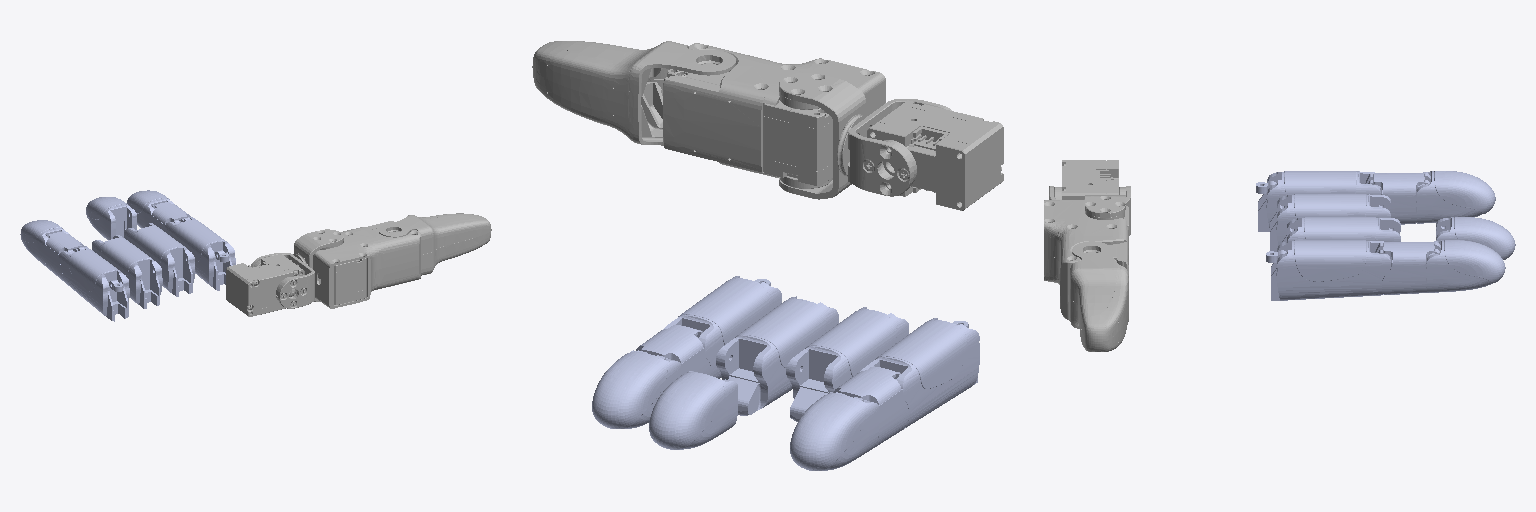
robot.urdf — Dex5-URDF-R:
<robot name="Dex5-URDF-R">
  <mujoco>
    <compiler meshdir="meshes" discardvisual="false"/>
  </mujoco>
  <link name="base_link_R">
    <inertial>
      <origin xyz="-0.023027 0.027982 -0.017178" rpy="0 0 0"/>
      <mass value="0.685702"/>
      <inertia ixx="7.78969326E-04" ixy="-3.3932999E-05" ixz="-8.537493E-06" iyy="6.11017846E-04" iyz="5.5013726E-05" izz="1.061484896E-03"/>
    </inertial>
    <visual>
      <origin xyz="0 0 0" rpy="0 0 0"/>
      <geometry>
        <mesh filename="meshes/base_link_R.STL"/>
      </geometry>
      <material name="">
        <color rgba="0.752941176470588 0.752941176470588 0.752941176470588 1"/>
      </material>
    </visual>
    <collision>
      <origin xyz="0 0 0" rpy="0 0 0"/>
      <geometry>
        <mesh filename="meshes/base_link_R.STL"/>
      </geometry>
    </collision>
  </link>
  <link name="Link_11R">
    <inertial>
      <origin xyz="-0.008418 0.000123 -0.003247" rpy="0 0 0"/>
      <mass value="0.02363"/>
      <inertia ixx="2.641049E-06" ixy="1.9442E-08" ixz="1.8132E-07" iyy="3.607134E-06" iyz="5.837E-09" izz="3.860781E-06"/>
    </inertial>
    <visual>
      <origin xyz="0 0 0" rpy="0 0 0"/>
      <geometry>
        <mesh filename="meshes/Link_11R.STL"/>
      </geometry>
      <material name="">
        <color rgba="0.752941176470588 0.752941176470588 0.752941176470588 1"/>
      </material>
    </visual>
    <collision>
      <origin xyz="0 0 0" rpy="0 0 0"/>
      <geometry>
        <mesh filename="meshes/Link_11R.STL"/>
      </geometry>
    </collision>
  </link>
  <joint name="Yaw_11R" type="revolute">
    <origin xyz="0 0 0.0143500000000242" rpy="0 0 0"/>
    <parent link="base_link_R"/>
    <child link="Link_11R"/>
    <axis xyz="0 0 1"/>
    <limit lower="-0.57596" upper="0.76794" effort="0.93" velocity="4.18"/>
  </joint>
  <link name="Link_12R">
    <inertial>
      <origin xyz="0.014668 0.000013 -0.004099" rpy="0 0 0"/>
      <mass value="0.015809"/>
      <inertia ixx="3.066476E-06" ixy="-4.497E-9" ixz="2.22721E-7" iyy="4.049699E-06" iyz="1.404E-9" izz="3.627081E-06"/>
    </inertial>
    <visual>
      <origin xyz="0 0 0" rpy="0 0 0"/>
      <geometry>
        <mesh filename="meshes/Link_12R.STL"/>
      </geometry>
      <material name="">
        <color rgba="0.752941176470588 0.752941176470588 0.752941176470588 1"/>
      </material>
    </visual>
    <collision>
      <origin xyz="0 0 0" rpy="0 0 0"/>
      <geometry>
        <mesh filename="meshes/Link_12R.STL"/>
      </geometry>
    </collision>
  </link>
  <joint name="Roll_12R" type="revolute">
    <origin xyz="-1.06041019916053E-05 0 0" rpy="1.5707963267949 0 0"/>
    <parent link="Link_11R"/>
    <child link="Link_12R"/>
    <axis xyz="0 0 1"/>
    <limit lower="0" upper="1.8151" effort="0.93" velocity="4.18"/>
  </joint>
  <link name="Link_13R">
    <inertial>
      <origin xyz="0.018557 -0.006933 0.000159" rpy="0 0 0"/>
      <mass value="0.06674"/>
      <inertia ixx="9.105565E-06" ixy="-1.948696E-06" ixz="2.9291E-08" iyy="2.2925394E-05" iyz="-0.816E-09" izz="2.3878954E-05"/>
    </inertial>
    <visual>
      <origin xyz="0 0 0" rpy="0 0 0"/>
      <geometry>
        <mesh filename="meshes/Link_13R.STL"/>
      </geometry>
      <material name="">
        <color rgba="0.752941176470588 0.752941176470588 0.752941176470588 1"/>
      </material>
    </visual>
    <collision>
      <origin xyz="0 0 0" rpy="0 0 0"/>
      <geometry>
        <mesh filename="meshes/Link_13R.STL"/>
      </geometry>
    </collision>
  </link>
  <joint name="Pitch_13R" type="revolute">
    <origin xyz="0.0335000000000025 0 -0.00599999999999658" rpy="-1.57079632688918 -1.55083872381532E-05 0"/>
    <parent link="Link_12R"/>
    <child link="Link_13R"/>
    <axis xyz="0 0 1"/>
    <limit lower="0" upper="1.9548" effort="0.93" velocity="4.18"/>
  </joint>
  <link name="Link_14R">
    <inertial>
      <origin xyz="0.028085 0.003322 0.000472" rpy="0 0 0"/>
      <mass value="0.020073"/>
      <inertia ixx="1.93782E-06" ixy="-1.69818E-07" ixz="1.24848E-07" iyy="6.083181E-06" iyz="2.0791E-08" izz="5.614839E-06"/>
    </inertial>
    <visual>
      <origin xyz="0 0 0" rpy="0 0 0"/>
      <geometry>
        <mesh filename="meshes/Link_14R.STL"/>
      </geometry>
      <material name="">
        <color rgba="0.752941176470588 0.752941176470588 0.752941176470588 1"/>
      </material>
    </visual>
    <collision>
      <origin xyz="0 0 0" rpy="0 0 0"/>
      <geometry>
        <mesh filename="meshes/Link_14R.STL"/>
      </geometry>
    </collision>
  </link>
  <joint name="Pitch_14R" type="revolute">
    <origin xyz="0.036609 -0.0053654 0" rpy="0 0 0"/>
    <parent link="Link_13R"/>
    <child link="Link_14R"/>
    <axis xyz="0 0 1"/>
    <limit lower="0" upper="1.6406" effort="0.93" velocity="4.18"/>
  </joint>
  <link name="Link_21R">
    <inertial>
      <origin xyz="0.007826 -0.000005 -0.004125" rpy="0 0 0"/>
      <mass value="0.004497"/>
      <inertia ixx="8.9889E-08" ixy="-4.9E-11" ixz="3.7079E-08" iyy="1.37514E-07" iyz="-1.18E-10" izz="9.6125E-08"/>
    </inertial>
    <visual>
      <origin xyz="0 0 0" rpy="0 0 0"/>
      <geometry>
        <mesh filename="meshes/Link_21R.STL"/>
      </geometry>
      <material name="">
        <color rgba="0.792156862745098 0.819607843137255 0.933333333333333 1"/>
      </material>
    </visual>
    <collision>
      <origin xyz="0 0 0" rpy="0 0 0"/>
      <geometry>
        <mesh filename="meshes/Link_21R.STL"/>
      </geometry>
    </collision>
  </link>
  <joint name="Roll_21R" type="revolute">
    <origin xyz="0.01 0.073143 -0.0034702" rpy="0 0 1.5708"/>
    <parent link="base_link_R"/>
    <child link="Link_21R"/>
    <axis xyz="0 0 1"/>
    <limit lower="-0.38397" upper="0.38397" effort="0" velocity="0.76794"/>
  </joint>
  <link name="Link_22R">
    <inertial>
      <origin xyz="0.021242 -0.005936 0.000059" rpy="0 0 0"/>
      <mass value="0.017982"/>
      <inertia ixx="1.206794E-06" ixy="-1.30843E-07" ixz="-2.335E-09" iyy="4.081109E-06" iyz="1.219E-09" izz="4.370124E-06"/>
    </inertial>
    <visual>
      <origin xyz="0 0 0" rpy="0 0 0"/>
      <geometry>
        <mesh filename="meshes/Link_22R.STL"/>
      </geometry>
      <material name="">
        <color rgba="0.792156862745098 0.819607843137255 0.933333333333333 1"/>
      </material>
    </visual>
    <collision>
      <origin xyz="0 0 0" rpy="0 0 0"/>
      <geometry>
        <mesh filename="meshes/Link_22R.STL"/>
      </geometry>
    </collision>
  </link>
  <joint name="Pitch_22R" type="revolute">
    <origin xyz="0.00419999999999998 0 0" rpy="1.5707963267949 0 0"/>
    <parent link="Link_21R"/>
    <child link="Link_22R"/>
    <axis xyz="0 0 1"/>
    <limit lower="0" upper="1.5707963" effort="0" velocity="3.1415926"/>
  </joint>
  <link name="Link_23R">
    <inertial>
      <origin xyz="0.011393 -0.005777 0.000001" rpy="0 0 0"/>
      <mass value="0.012776"/>
      <inertia ixx="6.38115E-07" ixy="5.5121E-08" ixz="-4.97E-10" iyy="6.31505E-07" iyz="-1.43E-10" izz="8.2943E-07"/>
    </inertial>
    <visual>
      <origin xyz="0 0 0" rpy="0 0 0"/>
      <geometry>
        <mesh filename="meshes/Link_23R.STL"/>
      </geometry>
      <material name="">
        <color rgba="0.792156862745098 0.819607843137255 0.933333333333333 1"/>
      </material>
    </visual>
    <collision>
      <origin xyz="0 0 0" rpy="0 0 0"/>
      <geometry>
        <mesh filename="meshes/Link_23R.STL"/>
      </geometry>
    </collision>
  </link>
  <joint name="Pitch_23R" type="revolute">
    <origin xyz="0.039999999999998 0 0" rpy="0 0 0"/>
    <parent link="Link_22R"/>
    <child link="Link_23R"/>
    <axis xyz="0 0 1"/>
    <limit lower="0" upper="1.684242699" effort="0" velocity="3.368485398"/>
  </joint>
  <link name="Link_24R">
    <inertial>
      <origin xyz="0.009354 -0.004824 0.000072" rpy="0 0 0"/>
      <mass value="0.00639891165893413"/>
      <inertia ixx="4.9531E-07" ixy="-1.09285E-07" ixz="8.84E-10" iyy="1.466772E-06" iyz="4.47E-10" izz="1.448234E-06"/>
    </inertial>
    <visual>
      <origin xyz="0 0 0" rpy="0 0 0"/>
      <geometry>
        <mesh filename="meshes/Link_24R.STL"/>
      </geometry>
      <material name="">
        <color rgba="0.792156862745098 0.819607843137255 0.933333333333333 1"/>
      </material>
    </visual>
    <collision>
      <origin xyz="0 0 0" rpy="0 0 0"/>
      <geometry>
        <mesh filename="meshes/Link_24R.STL"/>
      </geometry>
    </collision>
  </link>
  <joint name="Pitch_24R" type="revolute">
    <origin xyz="0.0209845918681 0.000804303505750905 0" rpy="0 0 0"/>
    <parent link="Link_23R"/>
    <child link="Link_24R"/>
    <axis xyz="0 0 1"/>
    <limit lower="0" upper="1.396263378" effort="0" velocity="2.792526756"/>
  </joint>
  <link name="Link_31R">
    <inertial>
      <origin xyz="0.007826 -0.000005 -0.004125" rpy="0 0 0"/>
      <mass value="0.004497"/>
      <inertia ixx="8.9889E-08" ixy="-4.9E-11" ixz="3.7079E-08" iyy="1.37514E-07" iyz="-1.18E-10" izz="9.6125E-08"/>
    </inertial>
    <visual>
      <origin xyz="0 0 0" rpy="0 0 0"/>
      <geometry>
        <mesh filename="meshes/Link_31R.STL"/>
      </geometry>
      <material name="">
        <color rgba="0.792156862745098 0.819607843137255 0.933333333333333 1"/>
      </material>
    </visual>
    <collision>
      <origin xyz="0 0 0" rpy="0 0 0"/>
      <geometry>
        <mesh filename="meshes/Link_31R.STL"/>
      </geometry>
    </collision>
  </link>
  <joint name="Roll_31R" type="revolute">
    <origin xyz="-0.012 0.077143 -0.0034702" rpy="0 0 1.5708"/>
    <parent link="base_link_R"/>
    <child link="Link_31R"/>
    <axis xyz="0 0 1"/>
    <limit lower="-0.38397" upper="0.38397" effort="0" velocity="0.76794"/>
  </joint>
  <link name="Link_32R">
    <inertial>
      <origin xyz="0.021242 -0.005936 0.000059" rpy="0 0 0"/>
      <mass value="0.017982"/>
      <inertia ixx="1.206794E-06" ixy="-1.30843E-07" ixz="-2.335E-09" iyy="4.081109E-06" iyz="1.219E-09" izz="4.370124E-06"/>
    </inertial>
    <visual>
      <origin xyz="0 0 0" rpy="0 0 0"/>
      <geometry>
        <mesh filename="meshes/Link_32R.STL"/>
      </geometry>
      <material name="">
        <color rgba="0.792156862745098 0.819607843137255 0.933333333333333 1"/>
      </material>
    </visual>
    <collision>
      <origin xyz="0 0 0" rpy="0 0 0"/>
      <geometry>
        <mesh filename="meshes/Link_32R.STL"/>
      </geometry>
    </collision>
  </link>
  <joint name="Pitch_32R" type="revolute">
    <origin xyz="0.00419999999999998 0 0" rpy="1.5707963267949 0 0"/>
    <parent link="Link_31R"/>
    <child link="Link_32R"/>
    <axis xyz="0 0 1"/>
    <limit lower="0" upper="1.5707963" effort="0" velocity="3.1415926"/>
  </joint>
  <link name="Link_33R">
    <inertial>
      <origin xyz="0.011393 -0.005777 0.000001" rpy="0 0 0"/>
      <mass value="0.012776"/>
      <inertia ixx="6.38115E-07" ixy="5.5121E-08" ixz="-4.97E-10" iyy="6.31505E-07" iyz="-1.43E-10" izz="8.2943E-07"/>
    </inertial>
    <visual>
      <origin xyz="0 0 0" rpy="0 0 0"/>
      <geometry>
        <mesh filename="meshes/Link_33R.STL"/>
      </geometry>
      <material name="">
        <color rgba="0.792156862745098 0.819607843137255 0.933333333333333 1"/>
      </material>
    </visual>
    <collision>
      <origin xyz="0 0 0" rpy="0 0 0"/>
      <geometry>
        <mesh filename="meshes/Link_33R.STL"/>
      </geometry>
    </collision>
  </link>
  <joint name="Pitch_33R" type="revolute">
    <origin xyz="0.039999999999998 0 0" rpy="0 0 0"/>
    <parent link="Link_32R"/>
    <child link="Link_33R"/>
    <axis xyz="0 0 1"/>
    <limit lower="0" upper="1.684242699" effort="0" velocity="3.368485398"/>
  </joint>
  <link name="Link_34R">
    <inertial>
      <origin xyz="0.009354 -0.004824 0.000072" rpy="0 0 0"/>
      <mass value="0.00639891165893413"/>
      <inertia ixx="4.9531E-07" ixy="-1.09285E-07" ixz="8.84E-10" iyy="1.466772E-06" iyz="4.47E-10" izz="1.448234E-06"/>
    </inertial>
    <visual>
      <origin xyz="0 0 0" rpy="0 0 0"/>
      <geometry>
        <mesh filename="meshes/Link_34R.STL"/>
      </geometry>
      <material name="">
        <color rgba="0.792156862745098 0.819607843137255 0.933333333333333 1"/>
      </material>
    </visual>
    <collision>
      <origin xyz="0 0 0" rpy="0 0 0"/>
      <geometry>
        <mesh filename="meshes/Link_34R.STL"/>
      </geometry>
    </collision>
  </link>
  <joint name="Pitch_34R" type="revolute">
    <origin xyz="0.0209845918681 0.000804303505750906 0" rpy="0 0 0"/>
    <parent link="Link_33R"/>
    <child link="Link_34R"/>
    <axis xyz="0 0 1"/>
    <limit lower="0" upper="1.396263378" effort="0" velocity="2.792526756"/>
  </joint>
  <link name="Link_41R">
    <inertial>
      <origin xyz="0.007826 -0.000005 -0.004125" rpy="0 0 0"/>
      <mass value="0.004497"/>
      <inertia ixx="8.9889E-08" ixy="-4.9E-11" ixz="3.7079E-08" iyy="1.37514E-07" iyz="-1.18E-10" izz="9.6125E-08"/>
    </inertial>
    <visual>
      <origin xyz="0 0 0" rpy="0 0 0"/>
      <geometry>
        <mesh filename="meshes/Link_41R.STL"/>
      </geometry>
      <material name="">
        <color rgba="0.792156862745098 0.819607843137255 0.933333333333333 1"/>
      </material>
    </visual>
    <collision>
      <origin xyz="0 0 0" rpy="0 0 0"/>
      <geometry>
        <mesh filename="meshes/Link_41R.STL"/>
      </geometry>
    </collision>
  </link>
  <joint name="Roll_41R" type="revolute">
    <origin xyz="-0.034 0.073143 -0.0034702" rpy="0 0 1.5708"/>
    <parent link="base_link_R"/>
    <child link="Link_41R"/>
    <axis xyz="0 0 1"/>
    <limit lower="-0.38397" upper="0.38397" effort="0" velocity="0"/>
  </joint>
  <link name="Link_42R">
    <inertial>
      <origin xyz="0.021242 -0.005936 0.000059" rpy="0 0 0"/>
      <mass value="0.017982"/>
      <inertia ixx="1.206794E-06" ixy="-1.30843E-07" ixz="-2.335E-09" iyy="4.081109E-06" iyz="1.219E-09" izz="4.370124E-06"/>
    </inertial>
    <visual>
      <origin xyz="0 0 0" rpy="0 0 0"/>
      <geometry>
        <mesh filename="meshes/Link_42R.STL"/>
      </geometry>
      <material name="">
        <color rgba="0.792156862745098 0.819607843137255 0.933333333333333 1"/>
      </material>
    </visual>
    <collision>
      <origin xyz="0 0 0" rpy="0 0 0"/>
      <geometry>
        <mesh filename="meshes/Link_42R.STL"/>
      </geometry>
    </collision>
  </link>
  <joint name="Pitch_42R" type="revolute">
    <origin xyz="0.00419999999999998 0 0" rpy="1.5707963267949 0 0"/>
    <parent link="Link_41R"/>
    <child link="Link_42R"/>
    <axis xyz="0 0 1"/>
    <limit lower="0" upper="1.5708" effort="0" velocity="3.1415926"/>
  </joint>
  <link name="Link_43R">
    <inertial>
      <origin xyz="0.011393 -0.005777 0.000001" rpy="0 0 0"/>
      <mass value="0.012776"/>
      <inertia ixx="6.38115E-07" ixy="5.5121E-08" ixz="-4.97E-10" iyy="6.31505E-07" iyz="-1.43E-10" izz="8.2943E-07"/>
    </inertial>
    <visual>
      <origin xyz="0 0 0" rpy="0 0 0"/>
      <geometry>
        <mesh filename="meshes/Link_43R.STL"/>
      </geometry>
      <material name="">
        <color rgba="0.792156862745098 0.819607843137255 0.933333333333333 1"/>
      </material>
    </visual>
    <collision>
      <origin xyz="0 0 0" rpy="0 0 0"/>
      <geometry>
        <mesh filename="meshes/Link_43R.STL"/>
      </geometry>
    </collision>
  </link>
  <joint name="Pitch_43R" type="revolute">
    <origin xyz="0.039999999999998 0 0" rpy="0 0 0"/>
    <parent link="Link_42R"/>
    <child link="Link_43R"/>
    <axis xyz="0 0 1"/>
    <limit lower="0" upper="1.6842" effort="0" velocity="3.368485398"/>
  </joint>
  <link name="Link_44R">
    <inertial>
      <origin xyz="0.009354 -0.004824 0.000072" rpy="0 0 0"/>
      <mass value="0.00639891165893413"/>
      <inertia ixx="4.9531E-07" ixy="-1.09285E-07" ixz="8.84E-10" iyy="1.466772E-06" iyz="4.47E-10" izz="1.448234E-06"/>
    </inertial>
    <visual>
      <origin xyz="0 0 0" rpy="0 0 0"/>
      <geometry>
        <mesh filename="meshes/Link_44R.STL"/>
      </geometry>
      <material name="">
        <color rgba="0.792156862745098 0.819607843137255 0.933333333333333 1"/>
      </material>
    </visual>
    <collision>
      <origin xyz="0 0 0" rpy="0 0 0"/>
      <geometry>
        <mesh filename="meshes/Link_44R.STL"/>
      </geometry>
    </collision>
  </link>
  <joint name="Pitch_44R" type="revolute">
    <origin xyz="0.0209845918681 0.000804303505750905 0" rpy="0 0 0"/>
    <parent link="Link_43R"/>
    <child link="Link_44R"/>
    <axis xyz="0 0 1"/>
    <limit lower="0" upper="1.3963" effort="0" velocity="2.7925"/>
  </joint>
  <link name="Link_51R">
    <inertial>
      <origin xyz="0.007826 -0.000005 -0.004125" rpy="0 0 0"/>
      <mass value="0.004497"/>
      <inertia ixx="8.9889E-08" ixy="-4.9E-11" ixz="3.7079E-08" iyy="1.37514E-07" iyz="-1.18E-10" izz="9.6125E-08"/>
    </inertial>
    <visual>
      <origin xyz="0 0 0" rpy="0 0 0"/>
      <geometry>
        <mesh filename="meshes/Link_51R.STL"/>
      </geometry>
      <material name="">
        <color rgba="0.792156862745098 0.819607843137255 0.933333333333333 1"/>
      </material>
    </visual>
    <collision>
      <origin xyz="0 0 0" rpy="0 0 0"/>
      <geometry>
        <mesh filename="meshes/Link_51R.STL"/>
      </geometry>
    </collision>
  </link>
  <joint name="Roll_51R" type="revolute">
    <origin xyz="-0.0559999999999967 0.0691433586578331 -0.00347021644327154" rpy="0 0 1.57079632679486"/>
    <parent link="base_link_R"/>
    <child link="Link_51R"/>
    <axis xyz="0 0 1"/>
    <limit lower="-0.38397" upper="0.38397" effort="0" velocity="0"/>
  </joint>
  <link name="Link_52R">
    <inertial>
      <origin xyz="0.021242 -0.005936 0.000059" rpy="0 0 0"/>
      <mass value="0.017982"/>
      <inertia ixx="1.206794E-06" ixy="-1.30843E-07" ixz="-2.335E-09" iyy="4.081109E-06" iyz="1.219E-09" izz="4.370124E-06"/>
    </inertial>
    <visual>
      <origin xyz="0 0 0" rpy="0 0 0"/>
      <geometry>
        <mesh filename="meshes/Link_52R.STL"/>
      </geometry>
      <material name="">
        <color rgba="0.792156862745098 0.819607843137255 0.933333333333333 1"/>
      </material>
    </visual>
    <collision>
      <origin xyz="0 0 0" rpy="0 0 0"/>
      <geometry>
        <mesh filename="meshes/Link_52R.STL"/>
      </geometry>
    </collision>
  </link>
  <joint name="Pitch_52R" type="revolute">
    <origin xyz="0.00419999999999998 0 0" rpy="1.5707963267949 0 0"/>
    <parent link="Link_51R"/>
    <child link="Link_52R"/>
    <axis xyz="0 0 1"/>
    <limit lower="0" upper="1.5708" effort="0" velocity="3.1416"/>
  </joint>
  <link name="Link_53R">
    <inertial>
      <origin xyz="0.011393 -0.005777 0.000001" rpy="0 0 0"/>
      <mass value="0.012776"/>
      <inertia ixx="6.38115E-07" ixy="5.5121E-08" ixz="-4.97E-10" iyy="6.31505E-07" iyz="-1.43E-10" izz="8.2943E-07"/>
    </inertial>
    <visual>
      <origin xyz="0 0 0" rpy="0 0 0"/>
      <geometry>
        <mesh filename="meshes/Link_53R.STL"/>
      </geometry>
      <material name="">
        <color rgba="0.792156862745098 0.819607843137255 0.933333333333333 1"/>
      </material>
    </visual>
    <collision>
      <origin xyz="0 0 0" rpy="0 0 0"/>
      <geometry>
        <mesh filename="meshes/Link_53R.STL"/>
      </geometry>
    </collision>
  </link>
  <joint name="Pitch_53R" type="revolute">
    <origin xyz="0.039999999999998 0 0" rpy="0 0 0"/>
    <parent link="Link_52R"/>
    <child link="Link_53R"/>
    <axis xyz="0 0 1"/>
    <limit lower="0" upper="1.6842" effort="0" velocity="3.3685"/>
  </joint>
  <link name="Link_54R">
    <inertial>
      <origin xyz="0.009354 -0.004824 0.000072" rpy="0 0 0"/>
      <mass value="0.00639891165893413"/>
      <inertia ixx="4.9531E-07" ixy="-1.09285E-07" ixz="8.84E-10" iyy="1.466772E-06" iyz="4.47E-10" izz="1.448234E-06"/>
    </inertial>
    <visual>
      <origin xyz="0 0 0" rpy="0 0 0"/>
      <geometry>
        <mesh filename="meshes/Link_54R.STL"/>
      </geometry>
      <material name="">
        <color rgba="0.792156862745098 0.819607843137255 0.933333333333333 1"/>
      </material>
    </visual>
    <collision>
      <origin xyz="0 0 0" rpy="0 0 0"/>
      <geometry>
        <mesh filename="meshes/Link_54R.STL"/>
      </geometry>
    </collision>
  </link>
  <joint name="Pitch_54R" type="revolute">
    <origin xyz="0.0209845918681 0.000804303505750905 0" rpy="0 0 0"/>
    <parent link="Link_53R"/>
    <child link="Link_54R"/>
    <axis xyz="0 0 1"/>
    <limit lower="0" upper="1.3963" effort="0" velocity="2.7925"/>
  </joint>
</robot>

--- Render facts (derived) ---
Views: 3 orthographic renders of the robot side by side, from view 1: azimuth 30°, elevation 25°; view 2: azimuth 150°, elevation 25°; view 3: azimuth 270°, elevation 25°.
Robot: Dex5-URDF-R — 21 links, 20 joints (20 revolute); root link base_link_R; default pose: every joint at zero.
Visible links, largest first — view 1: Link_13R, Link_14R, Link_11R, Link_52R, Link_42R, Link_32R, Link_22R, Link_12R, Link_34R, Link_54R, Link_53R, Link_24R (+1 smaller); view 2: Link_13R, Link_14R, Link_11R, Link_12R, Link_32R, Link_52R, Link_42R, Link_54R, Link_34R, Link_24R, Link_22R, Link_53R (+1 smaller); view 3: Link_22R, Link_14R, Link_13R, Link_24R, Link_54R, Link_42R, Link_52R, Link_32R, Link_23R, Link_11R, Link_34R, Link_53R (+1 smaller).
Link boxes in pixels (x1,y1,x2,y2): Link_13R: (313,221,420,308); Link_14R: (379,213,491,275); Link_11R: (226,254,304,316); Link_52R: (59,246,129,321); Link_42R: (92,235,162,308); Link_32R: (124,223,194,296); Link_22R: (165,217,235,290); Link_12R: (251,229,343,308); Link_34R: (86,197,136,239); Link_54R: (20,220,68,265); Link_53R: (45,231,84,280); Link_24R: (127,190,173,227); Link_13R: (663,43,885,188); Link_14R: (532,41,735,145); Link_11R: (867,100,1003,210); Link_12R: (779,73,951,199); Link_32R: (716,296,838,415); Link_52R: (860,318,979,429); Link_42R: (786,307,908,421); Link_54R: (790,392,878,470); Link_34R: (649,371,737,449); Link_24R: (592,350,680,428); Link_22R: (663,276,781,378); Link_53R: (834,366,908,446); Link_22R: (1271,240,1390,300); Link_14R: (1070,241,1128,351); Link_13R: (1044,199,1128,320); Link_24R: (1426,240,1505,292); Link_54R: (1416,171,1495,223); Link_42R: (1270,194,1390,251); Link_52R: (1258,171,1380,231); Link_32R: (1282,217,1400,242); Link_23R: (1375,242,1440,294); Link_11R: (1054,160,1125,199); Link_34R: (1436,217,1515,259); Link_53R: (1365,173,1430,224).
Size in the robot's own frame: 0.1932 by 0.1898 by 0.0524 metres.
Meshes: 21 distinct files referenced, 15 mesh visuals loaded (15 binary STL); not drawn: 6 (reference not matched to a file when rendering).